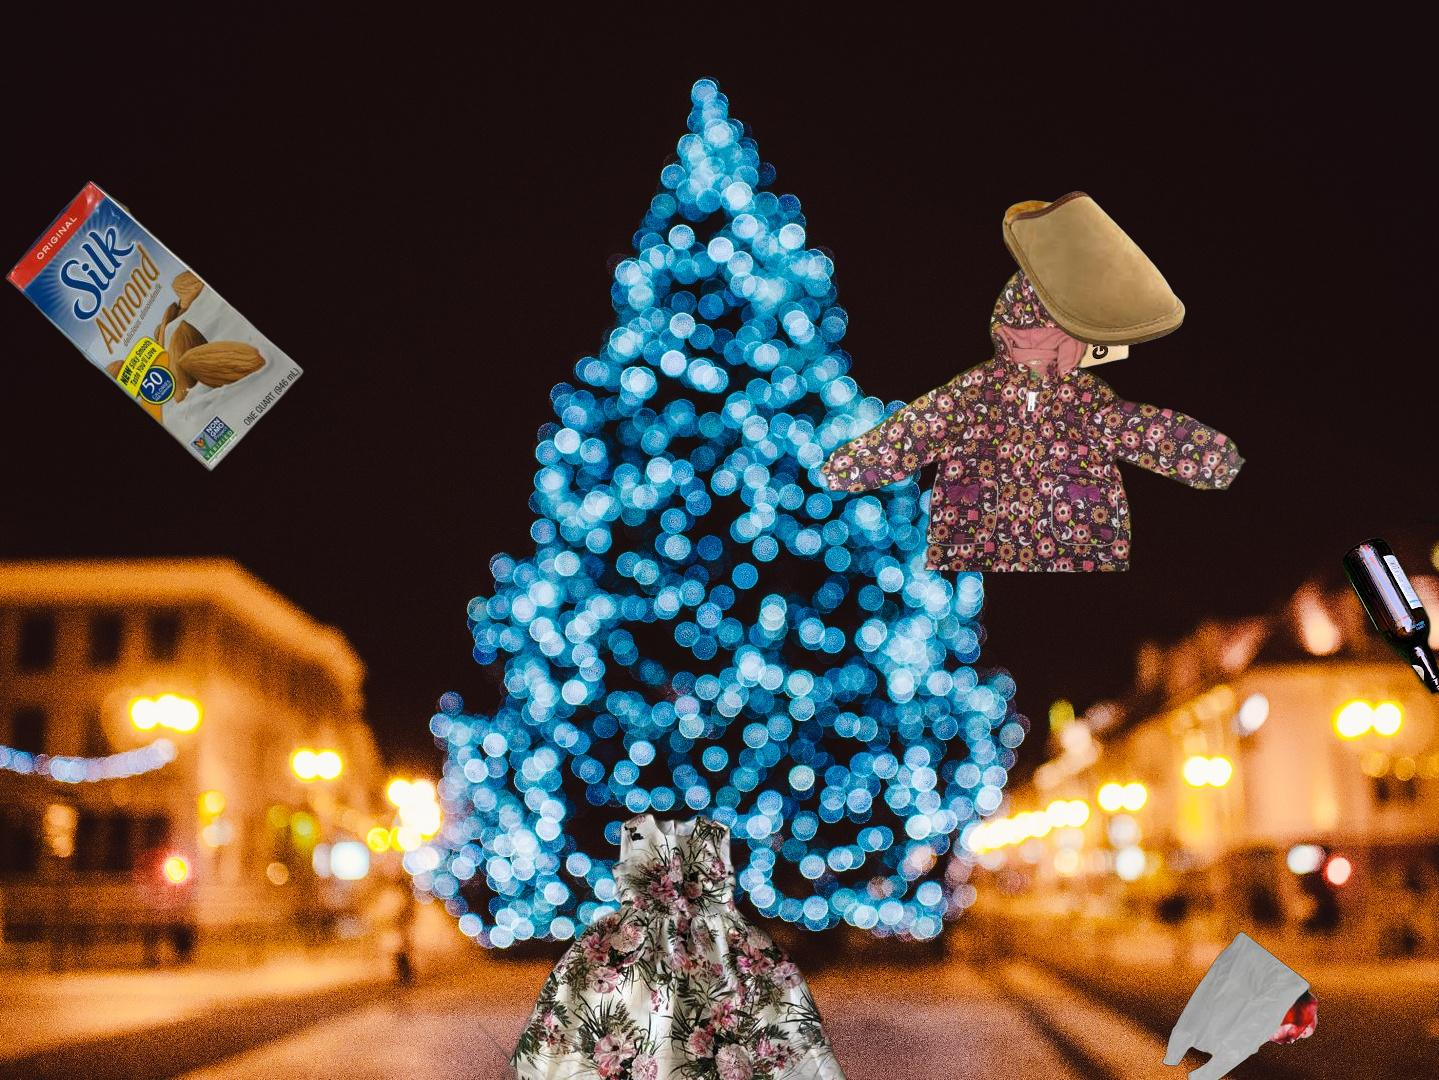battery: (1063, 248, 1134, 371)
clothes: (816, 264, 1251, 577), (479, 808, 854, 1080)
glass: (1338, 532, 1439, 702)
paper: (1, 177, 308, 474)
plastic-bag: (1082, 846, 1323, 1080)
shoes: (999, 188, 1188, 349), (1407, 223, 1439, 602)
